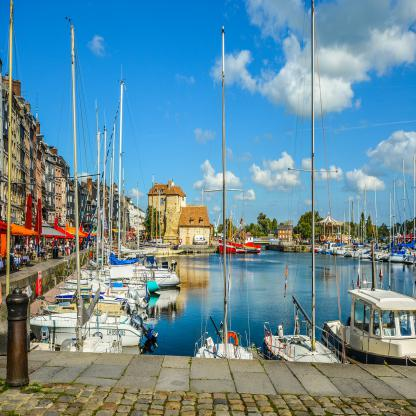Bulk Carrier: (218, 211, 261, 253)
